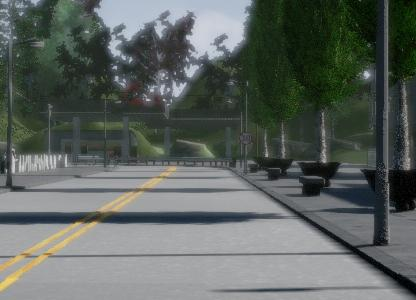Speed_60: (248, 87, 296, 131)
